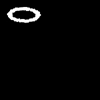chain: (7, 7, 39, 21)
